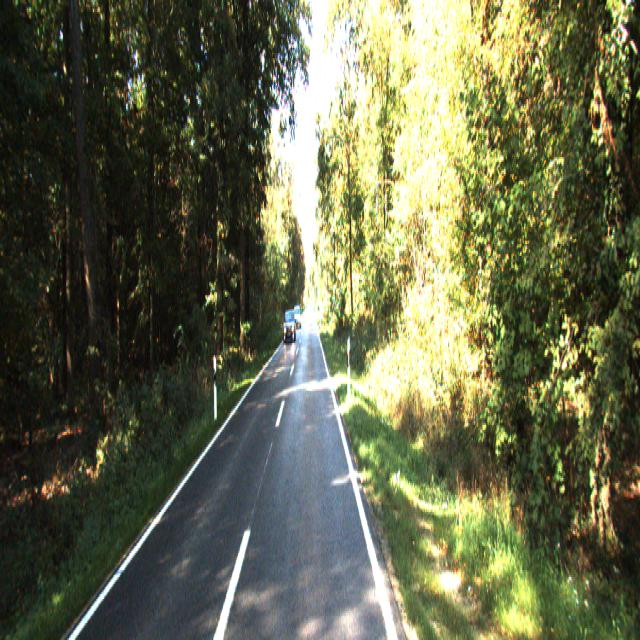Car: (283, 309, 296, 345)
